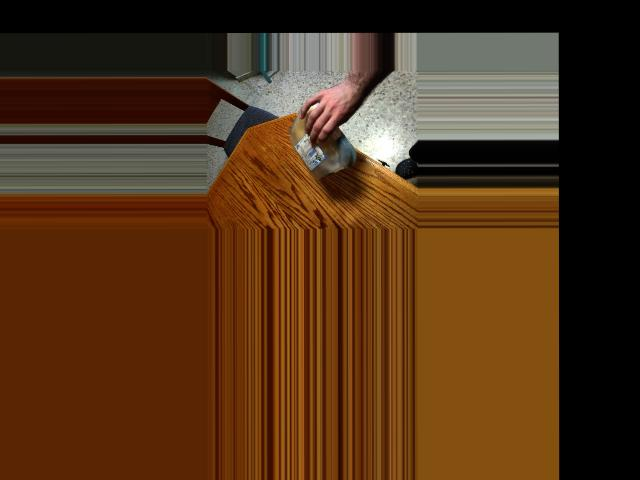cheese: (286, 97, 352, 176)
